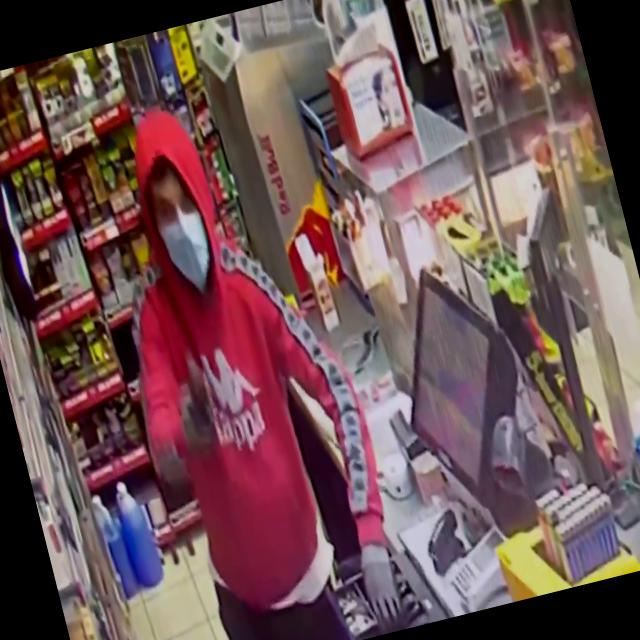handgun: (164, 340, 236, 446)
